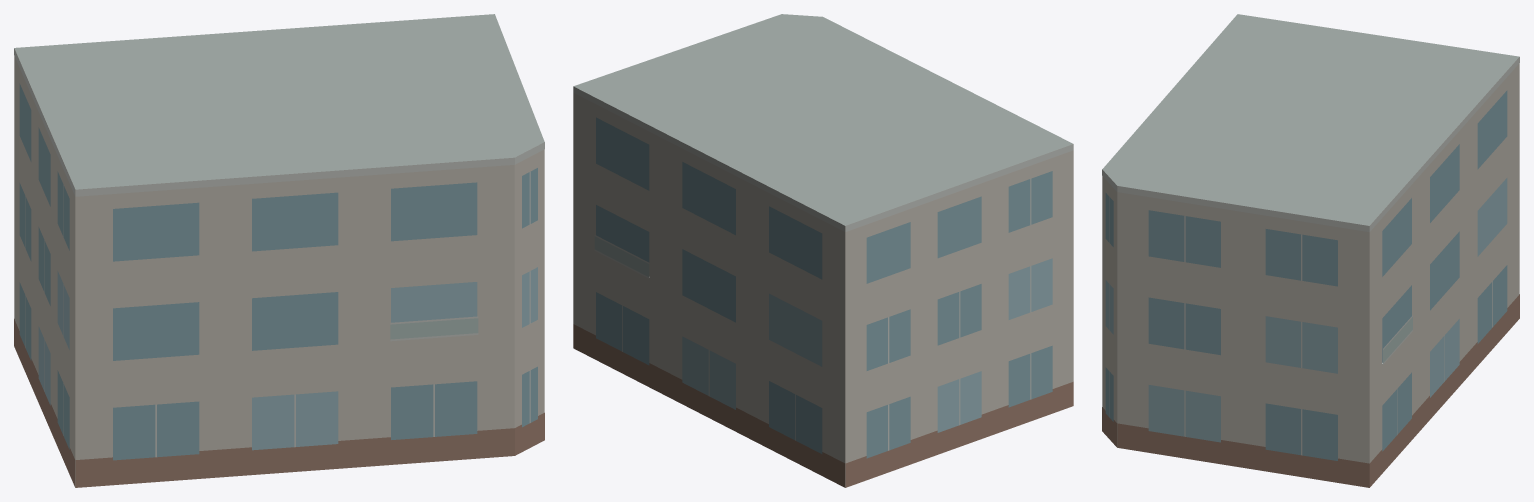
File: survey-upis-32852676.glb
3 renders of one model, left to right at view 1: azimuth 30°, elevation 25°; view 2: azimuth 150°, elevation 25°; view 3: azimuth 270°, elevation 25°, orthographic. The views are drawn at different scales.
Visible parts, largest first — view 1: survey-upis-32852676.tmp; view 2: survey-upis-32852676.tmp; view 3: survey-upis-32852676.tmp.
Part boxes in pixels (x1,y1,x2,y2): survey-upis-32852676.tmp: [14, 14, 544, 487]; survey-upis-32852676.tmp: [573, 14, 1073, 487]; survey-upis-32852676.tmp: [1102, 14, 1519, 487].
Bounding box in the file's own units: 17.71 × 10.2 × 14.74.
